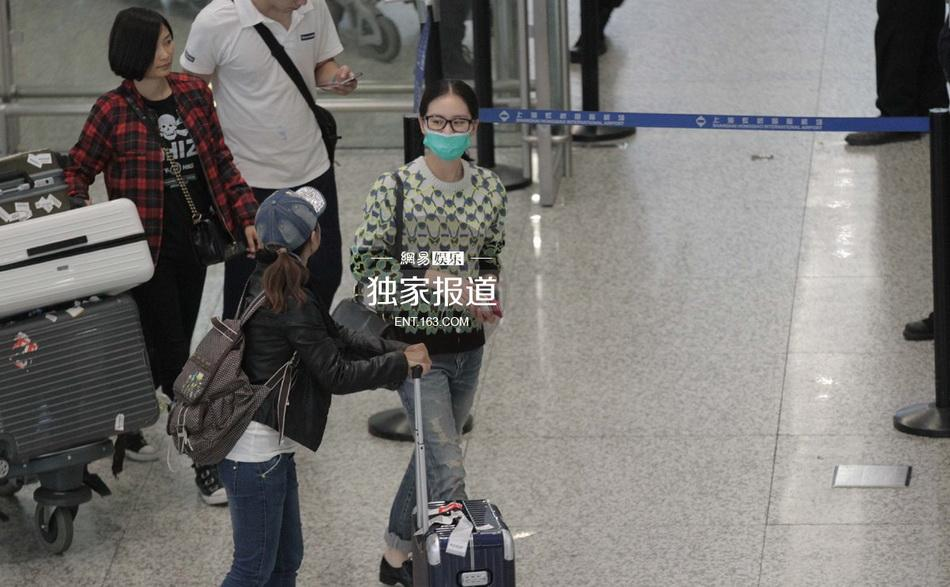face: (146, 26, 175, 75)
face_mask: (425, 99, 469, 158)
